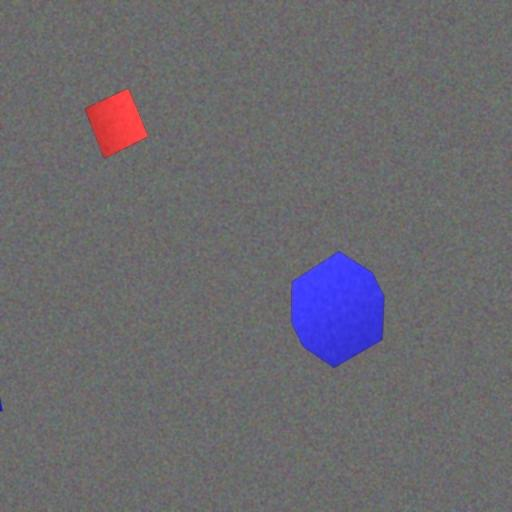RED_SQUARE: (84, 87, 150, 159)
